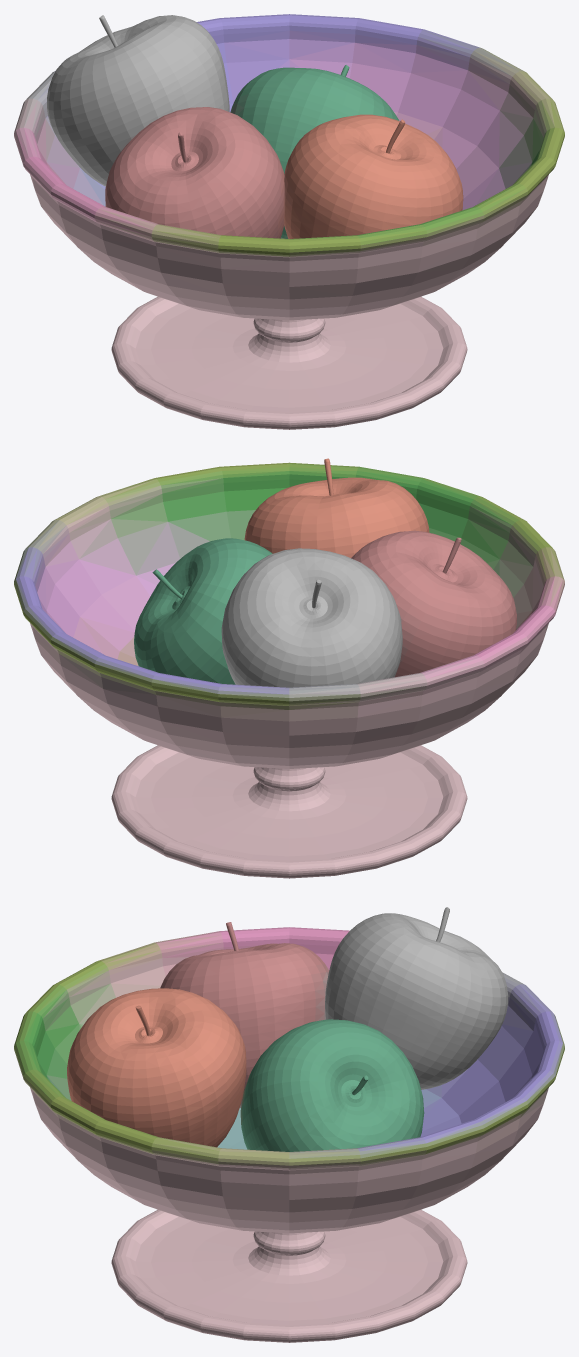
3 renders of one model, top to bottom at view 1: azimuth 30°, elevation 25°; view 2: azimuth 150°, elevation 25°; view 3: azimuth 270°, elevation 25°, orthographic.
Parts seen in each view (by area): view 1: world; view 2: world; view 3: world.
Part boxes in pixels (box(x1,y1,x2,y2)): world: box(14, 14, 564, 429); world: box(14, 458, 564, 878); world: box(14, 907, 564, 1342).
Bounding box in the file's own units: 0.9999 × 0.6225 × 1.
